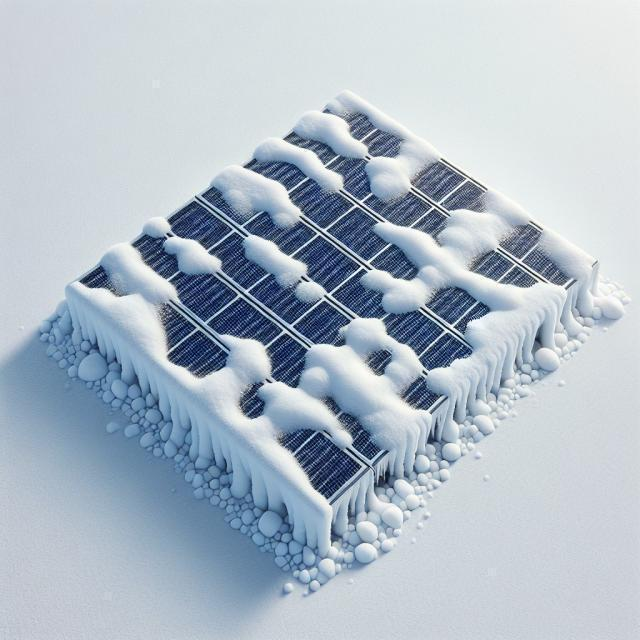Anomaly Solar Panel: (63, 8, 595, 535)
Snow: (60, 150, 453, 522), (321, 142, 582, 401), (299, 71, 442, 213), (202, 156, 312, 239), (249, 130, 352, 198), (231, 222, 308, 295), (287, 102, 376, 164), (528, 224, 596, 285), (162, 236, 220, 276), (291, 275, 324, 300), (141, 214, 171, 238)
